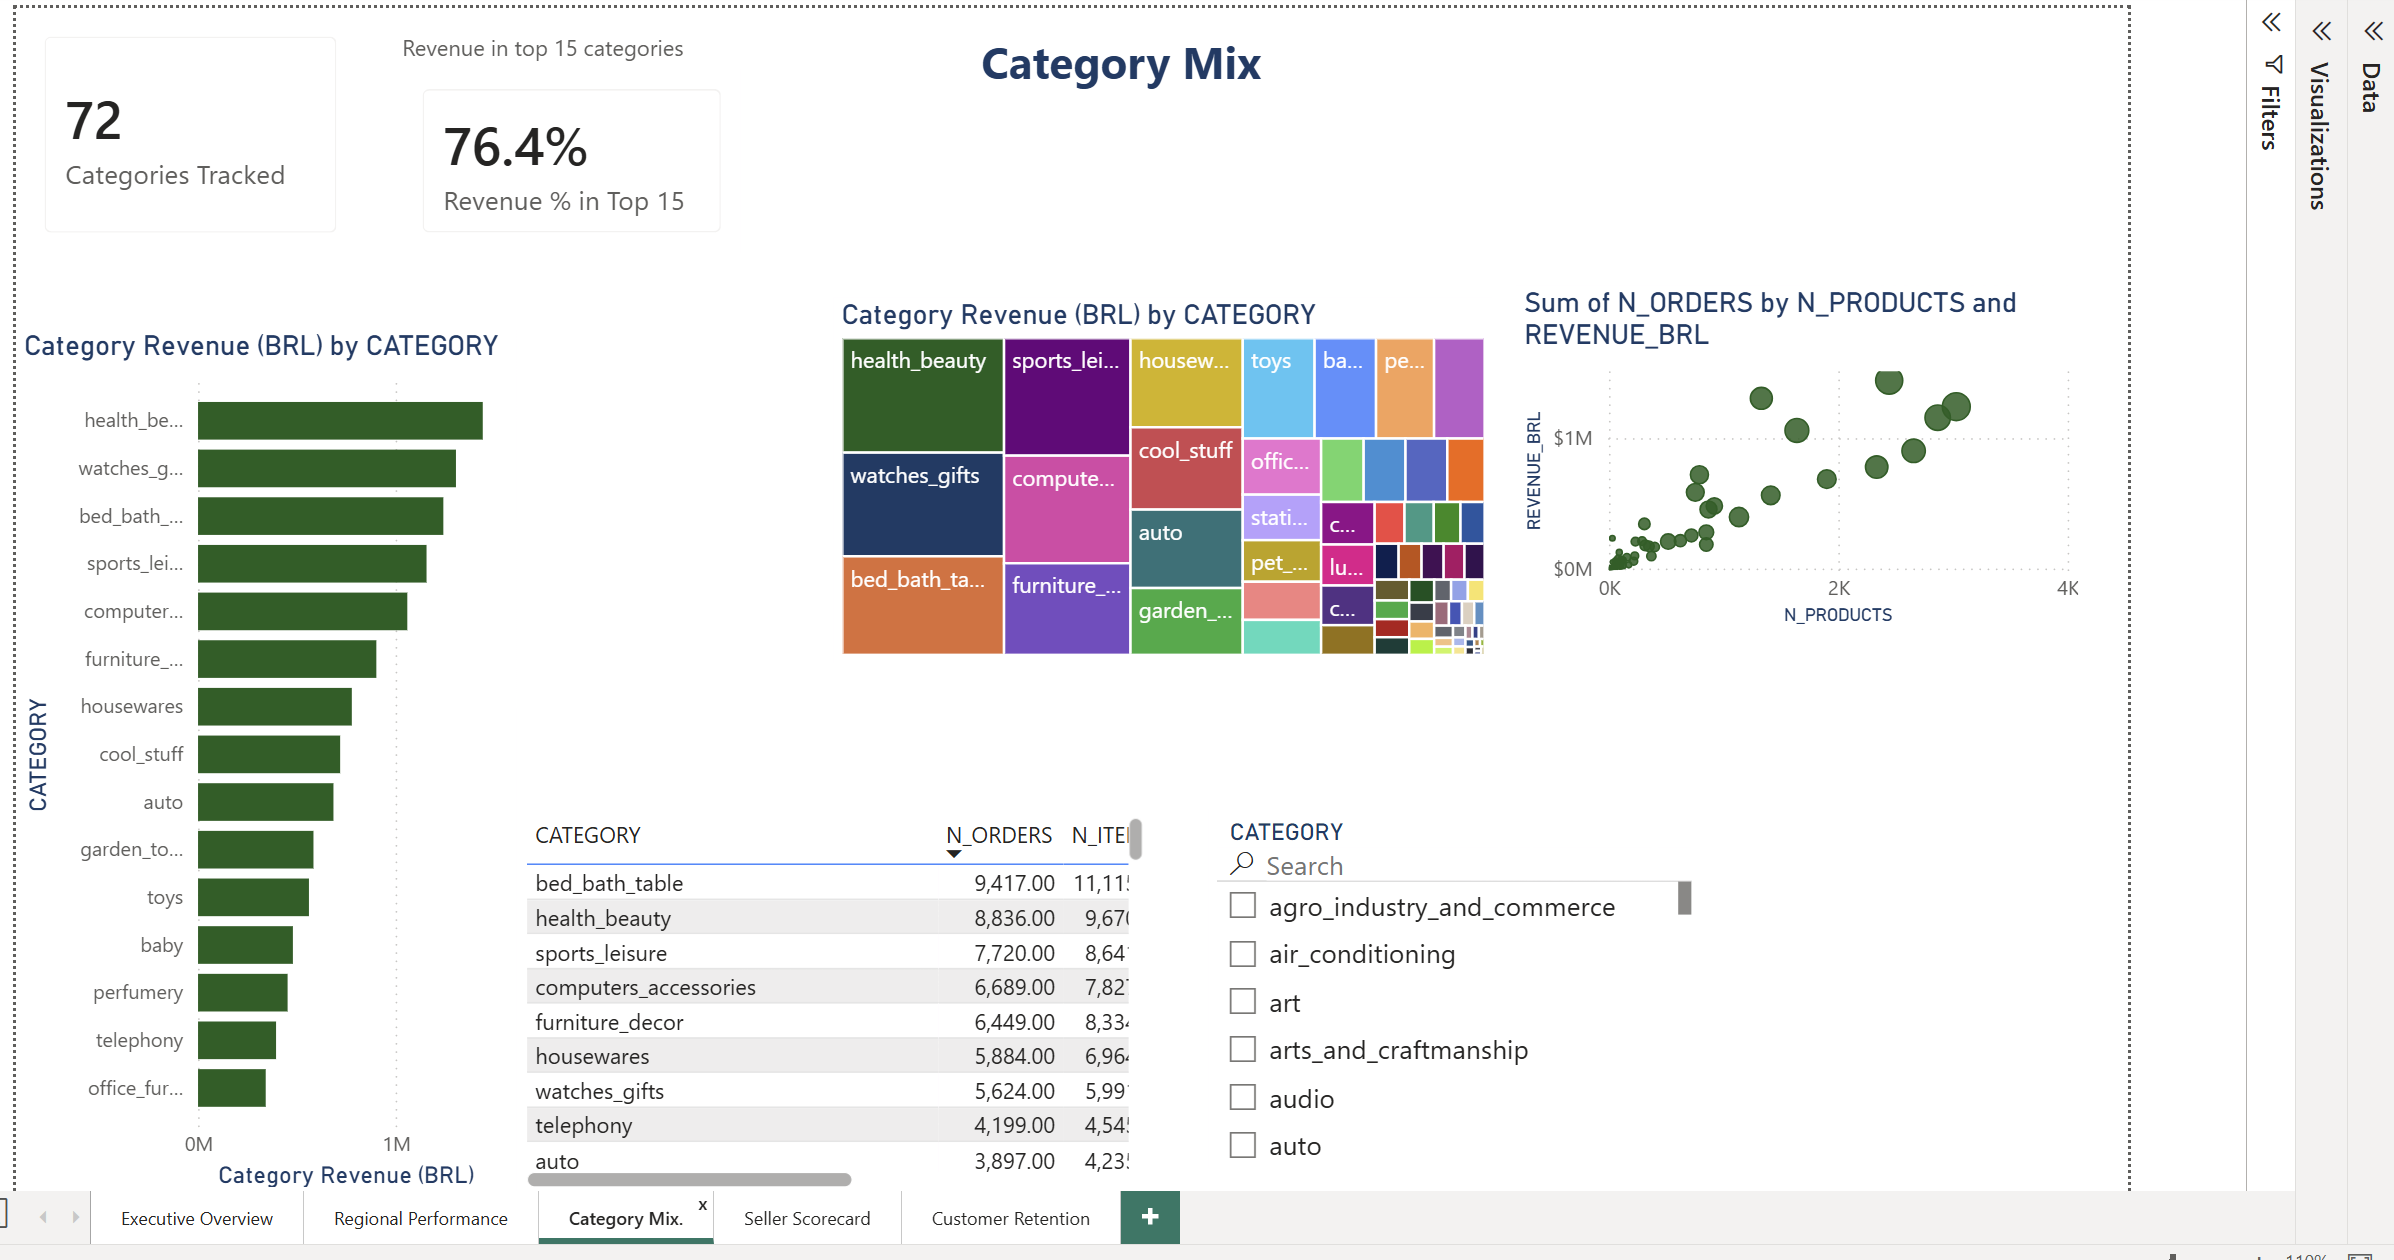

What the dashboard file says about the page in this screenshot:
{"tool":"powerbi","page":{"name":"Category Mix.","canvas":[1280,720],"ordinal":2},"visuals":[{"type":"barChart","fields":{"Category":["MART_CATEGORY_REVENUE.CATEGORY"],"Y":["_Measures.Category Revenue (BRL)"]},"box":[0,194.7,303.6,524.9],"z":0},{"type":"cardVisual","fields":{"Data":["_Measures.Categories Tracked"]},"box":[0,0,211.3,153.1],"z":1000},{"type":"cardVisual","fields":{"Data":["_Measures.Revenue % in Top 15"]},"box":[229,8.9,215.1,144.2],"z":2000},{"type":"treemap","fields":{"Group":["MART_CATEGORY_REVENUE.CATEGORY"],"Values":["_Measures.Category Revenue (BRL)"]},"box":[495.8,175,399.3,221.3],"z":3000},{"type":"scatterChart","fields":{"X":["MART_CATEGORY_REVENUE.N_PRODUCTS"],"Y":["MART_CATEGORY_REVENUE.REVENUE_BRL"],"Size":["Sum(MART_CATEGORY_REVENUE.N_ORDERS)"]},"box":[909.2,168,346,210.2],"z":4000},{"type":"tableEx","fields":{"Values":["MART_CATEGORY_REVENUE.CATEGORY","MART_CATEGORY_REVENUE.N_ORDERS","MART_CATEGORY_REVENUE.N_ITEMS","MART_CATEGORY_REVENUE.N_PRODUCTS","MART_CATEGORY_REVENUE.REVENUE_BRL","MART_CATEGORY_REVENUE.REVENUE_USD"]},"box":[303.7,485.9,384.6,234.1],"z":5000},{"type":"slicer","fields":{"Values":["MART_CATEGORY_REVENUE.CATEGORY"]},"box":[722.5,485.9,297.3,217.6],"z":6000},{"type":"textbox","box":[580,9.1,268.2,48.2],"z":7000}]}

Visuals, with their boxes on the page's 1280x720 design canvas (x1, y1, x2, y2). These are canvas units, not pixel positions in the 2394x1260 screenshot, which may show the page scaled, cropped or inside an application window:
barChart - MART_CATEGORY_REVENUE.CATEGORY x _Measures.Category Revenue (BRL): 0,195,304,720
cardVisual - _Measures.Categories Tracked: 0,0,211,153
cardVisual - _Measures.Revenue % in Top 15: 229,9,444,153
treemap - MART_CATEGORY_REVENUE.CATEGORY x _Measures.Category Revenue (BRL): 496,175,895,396
scatterChart - MART_CATEGORY_REVENUE.N_PRODUCTS x MART_CATEGORY_REVENUE.REVENUE_BRL: 909,168,1255,378
tableEx - MART_CATEGORY_REVENUE.CATEGORY x MART_CATEGORY_REVENUE.N_ORDERS: 304,486,688,720
slicer - MART_CATEGORY_REVENUE.CATEGORY: 722,486,1020,704
textbox: 580,9,848,57
